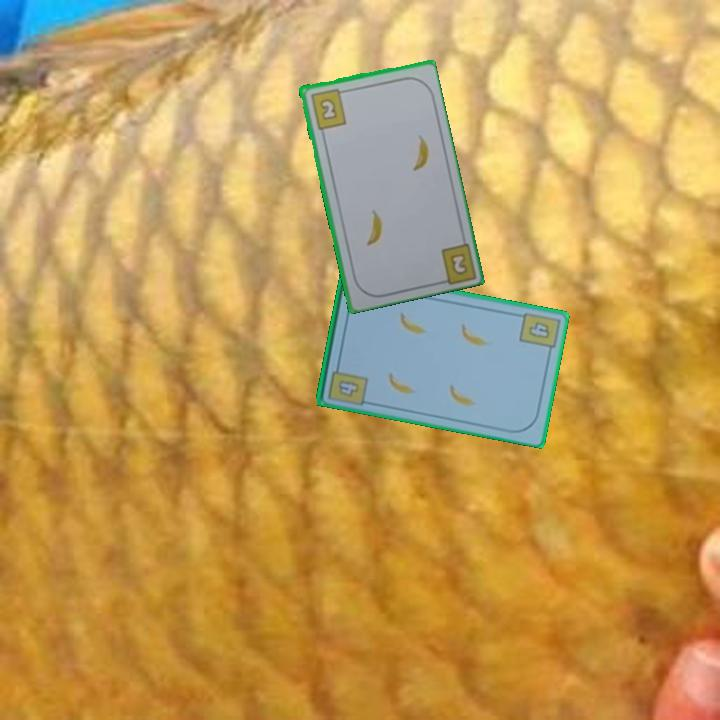2b: (307, 85, 349, 132), (449, 252, 468, 275)
4b: (516, 308, 561, 357), (335, 376, 362, 399)
